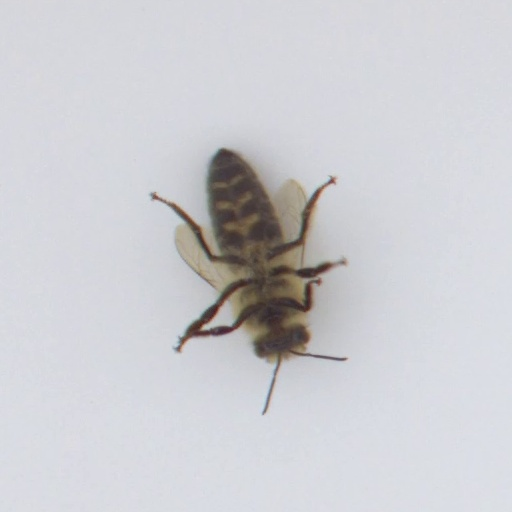Bee: (189, 141, 319, 371)
